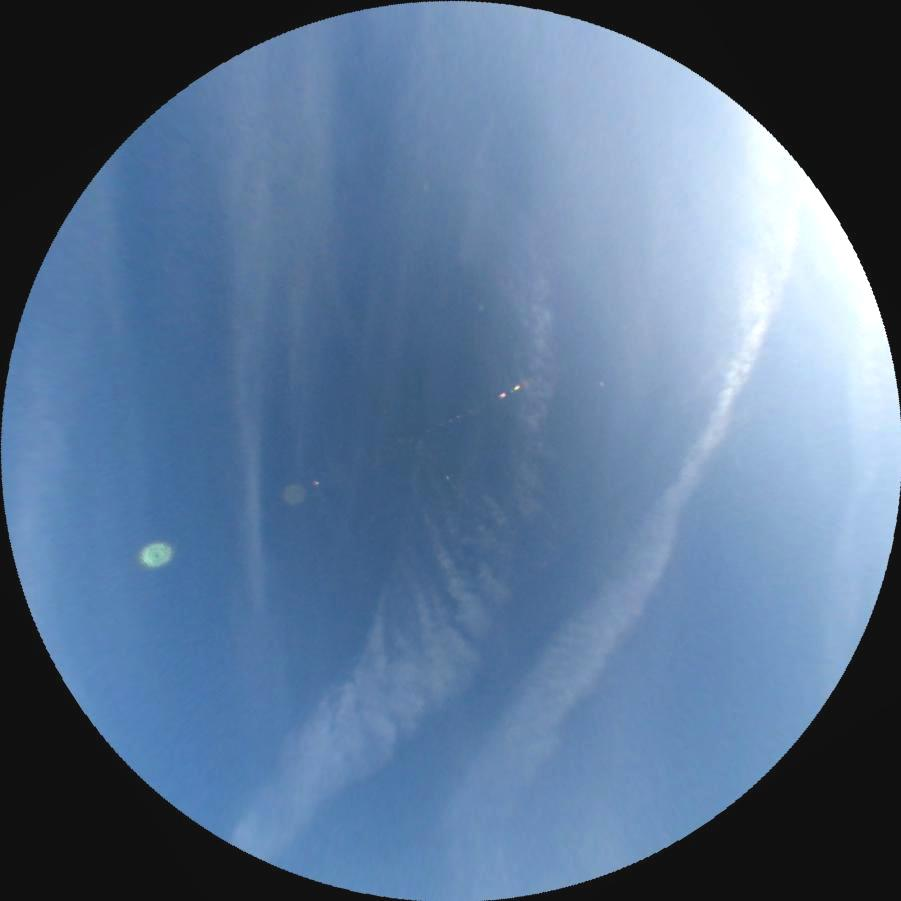contrail veryold: (221, 181, 650, 901), (432, 144, 840, 866)
